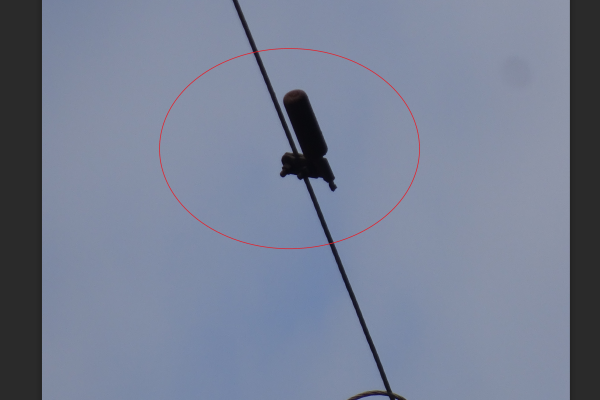damper_defect: (271, 86, 339, 195)
